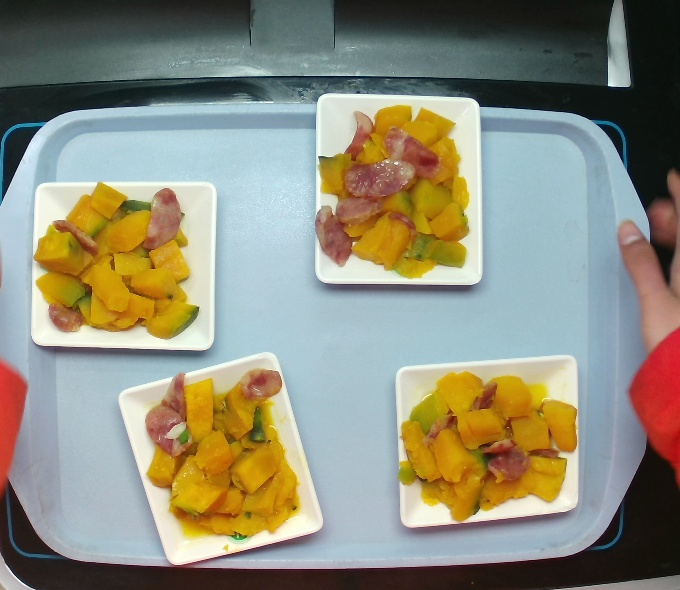wcq-NanGuaChaoXiangChang: (393, 357, 580, 539), (308, 94, 481, 287), (144, 360, 308, 553), (40, 193, 192, 333)
